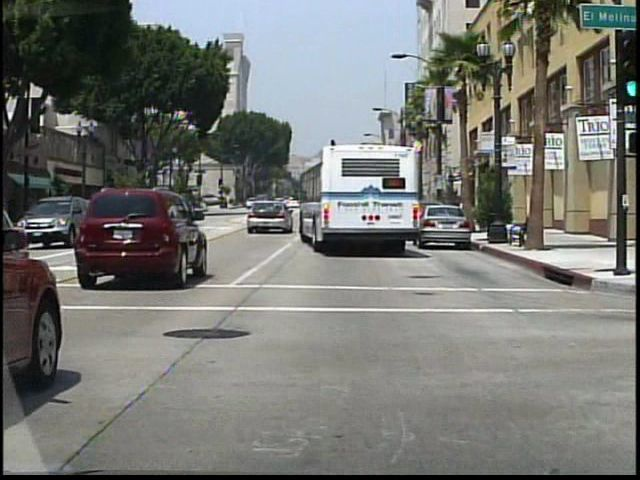person: (451, 188, 464, 227)
